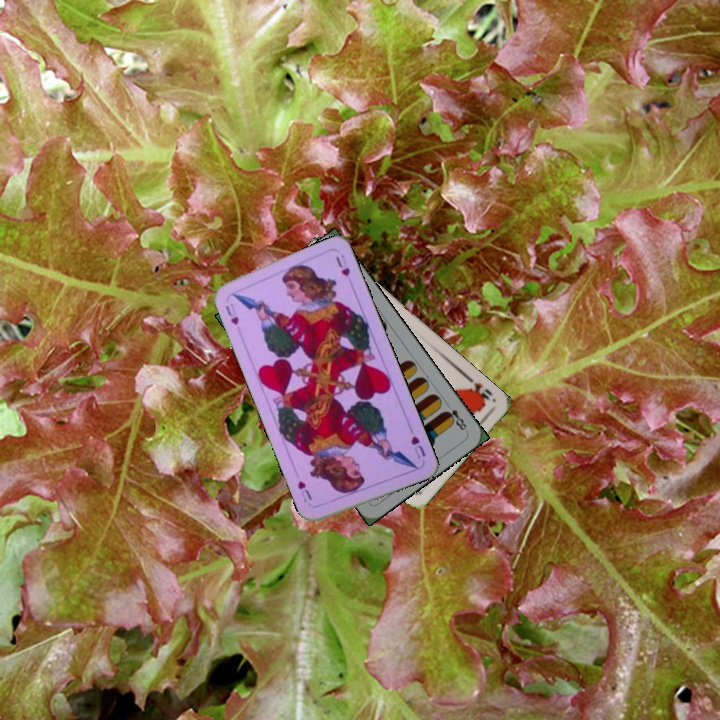E8: (440, 399, 469, 433)
HO: (462, 372, 497, 407)
HU: (407, 432, 428, 461), (221, 299, 241, 327)
